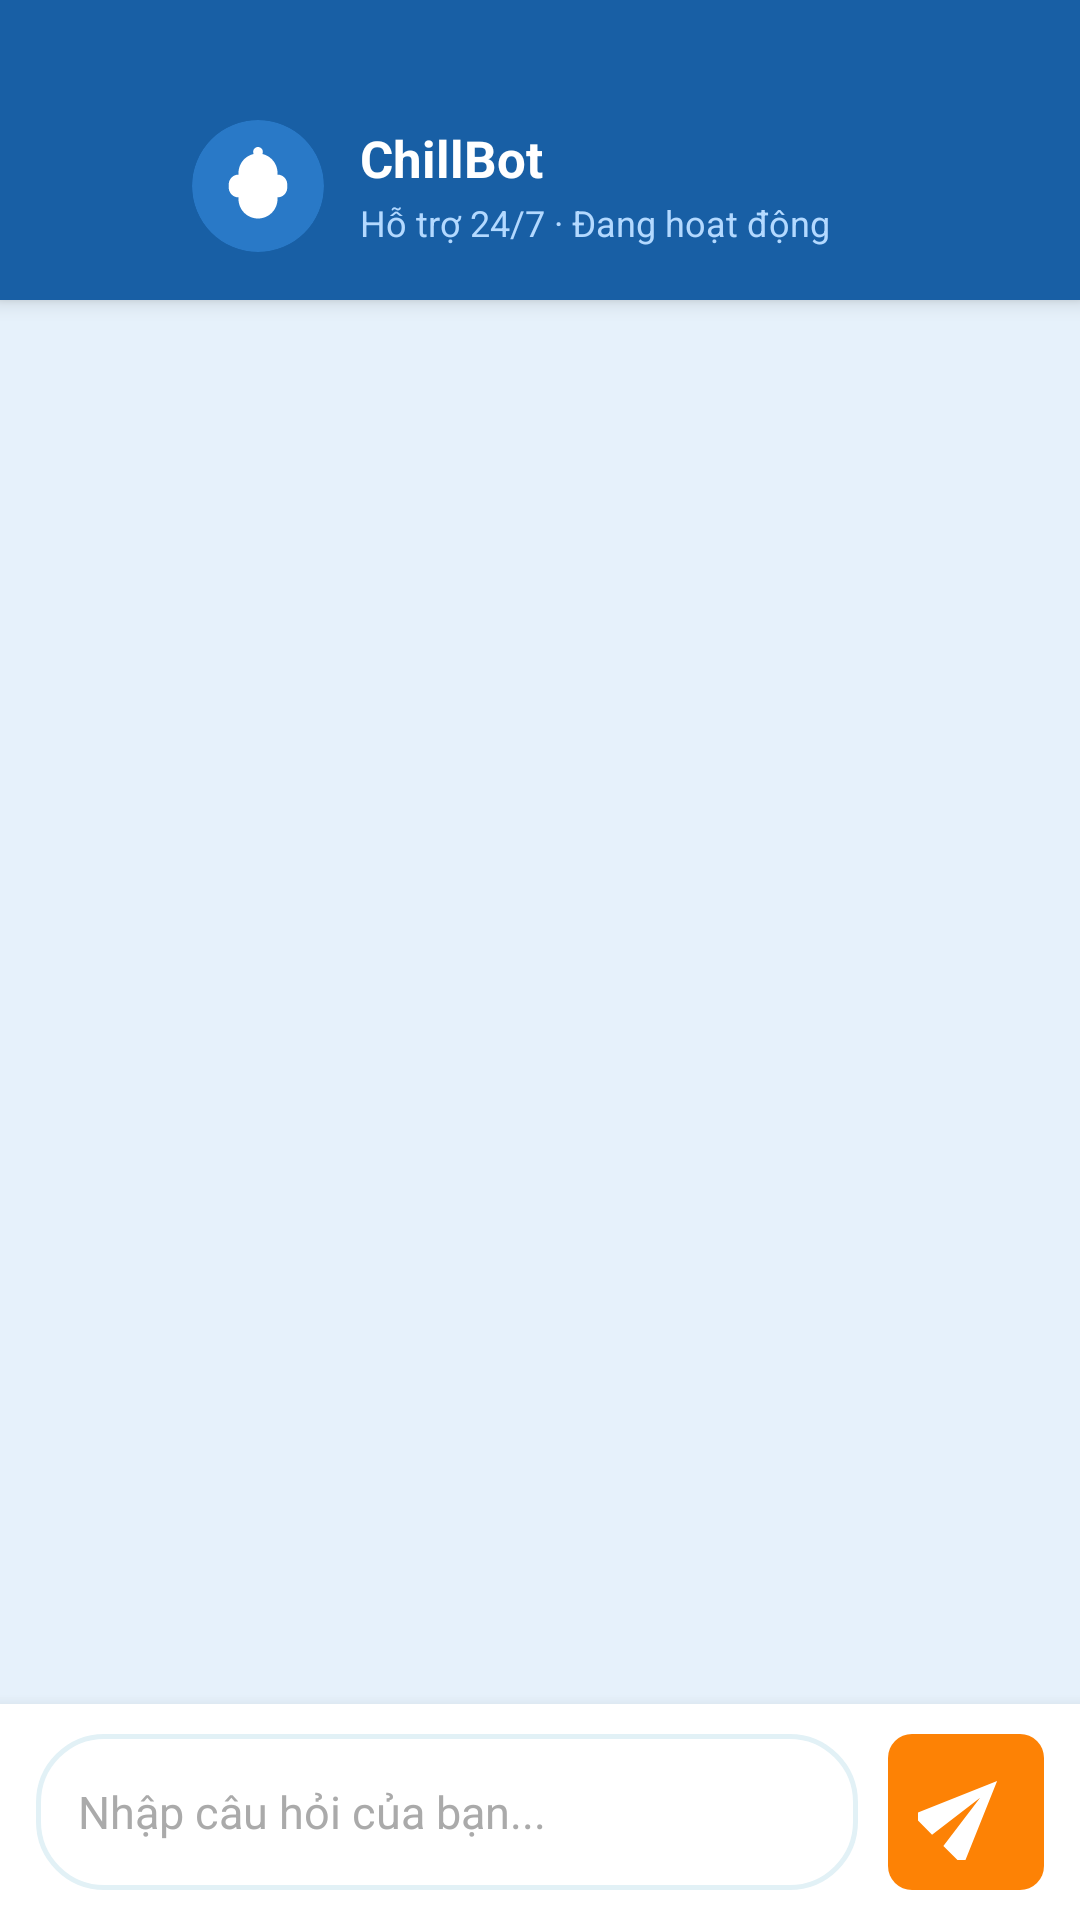

Point at icon controls on the screen. Image size 1080w x 1920h, points as [x,y].
chatbot: [258,183]
